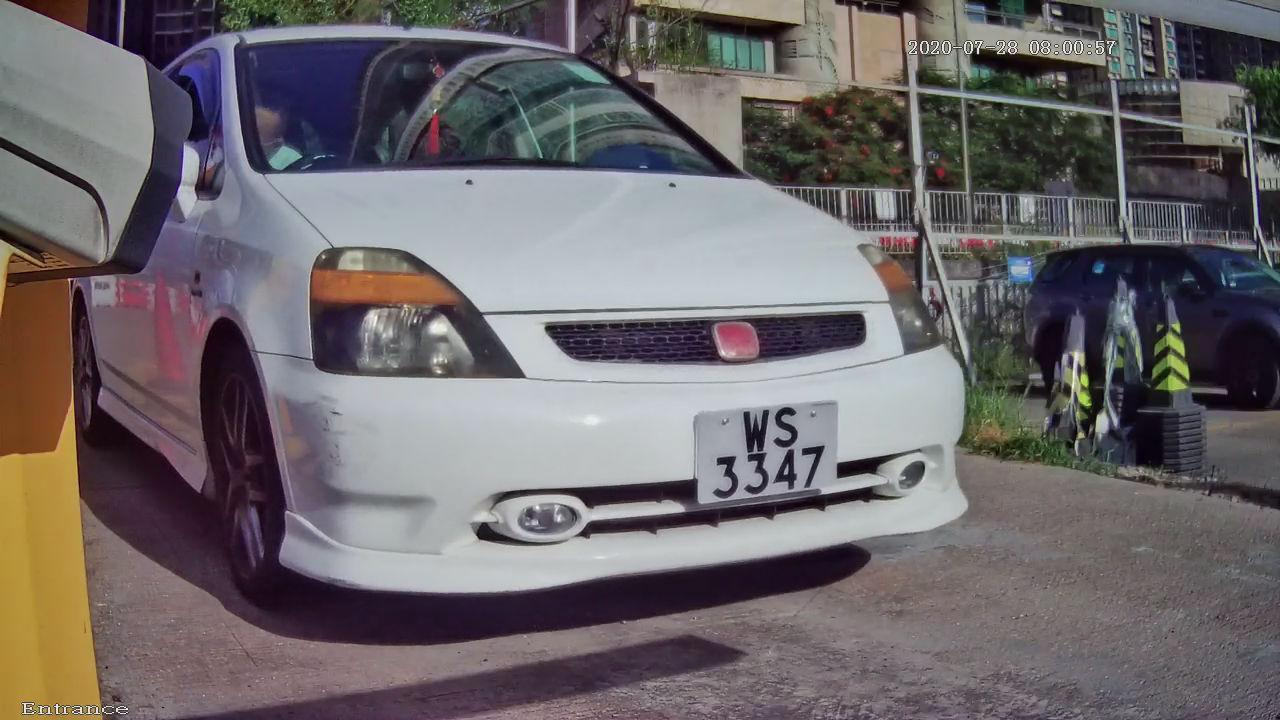privatecar: (41, 26, 1086, 669)
